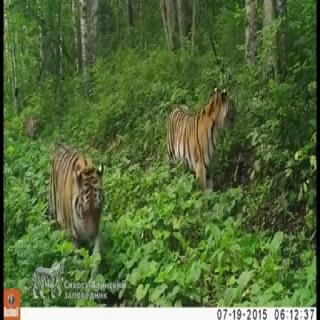Tiger: (152, 82, 252, 180), (48, 132, 112, 265), (16, 99, 41, 144)
